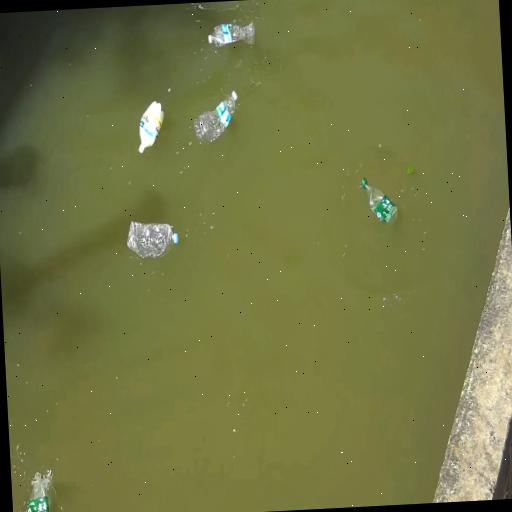plastic: (194, 91, 237, 144), (127, 221, 178, 260), (361, 178, 397, 224), (139, 101, 164, 153), (208, 23, 255, 47), (29, 477, 49, 511)
